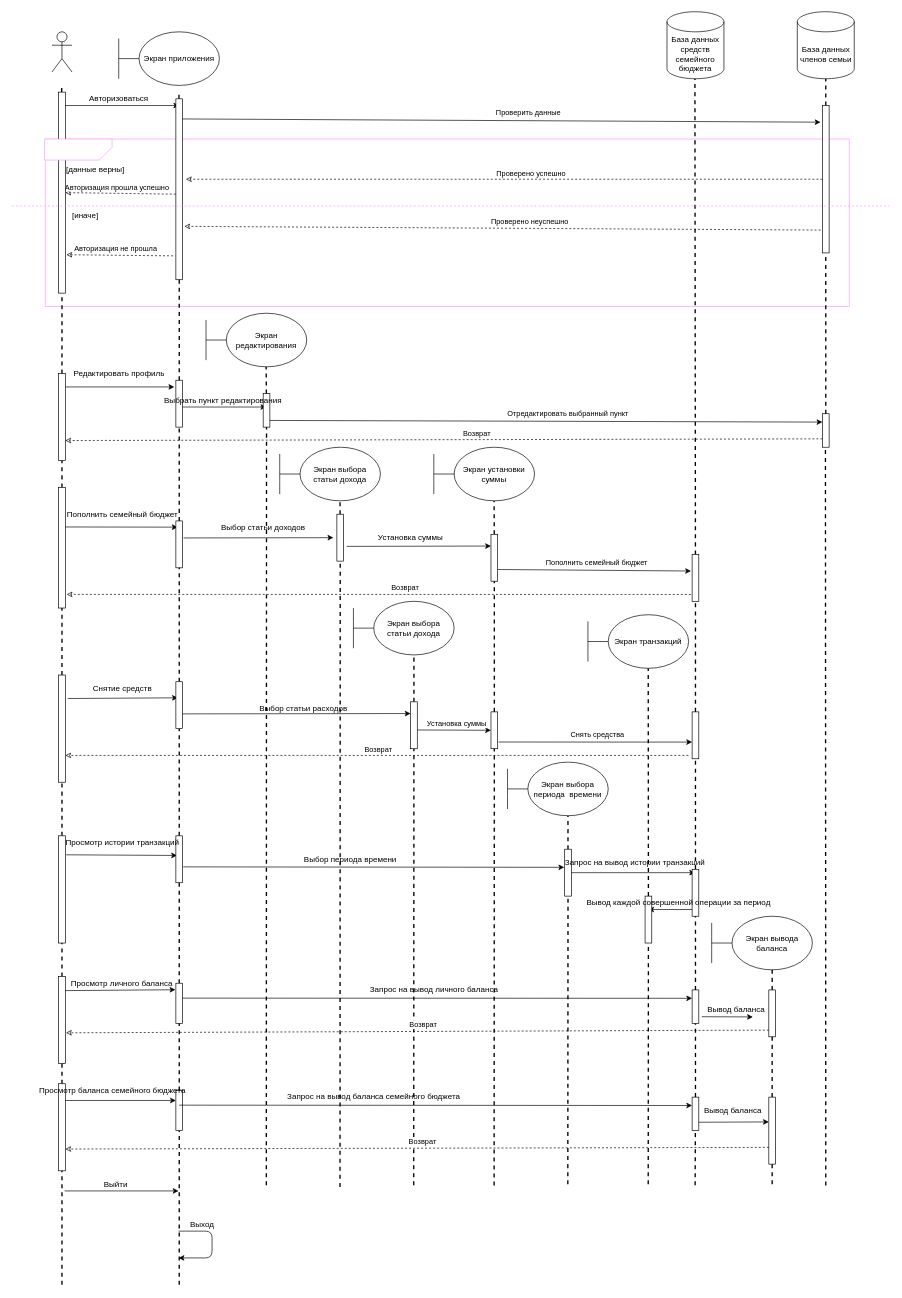
This 902x1298 diagram has some shape labels left out. The shapes that lost their labels are listed below. From the top down, each one's centre as x and y in pixels, then its label:
point 61,51: Член семьи
point 78,149: альтернатива
